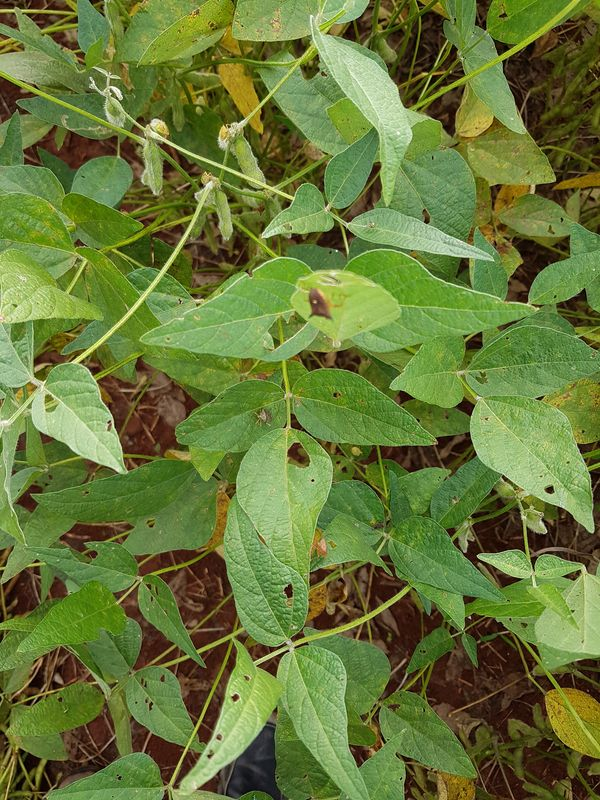Euschistus_heros_adulto: (298, 283, 350, 330), (249, 405, 275, 432), (310, 535, 333, 560)
Euschistus_heros_ninfa: (214, 120, 237, 145), (150, 118, 173, 141), (196, 168, 216, 188), (348, 444, 366, 460)
